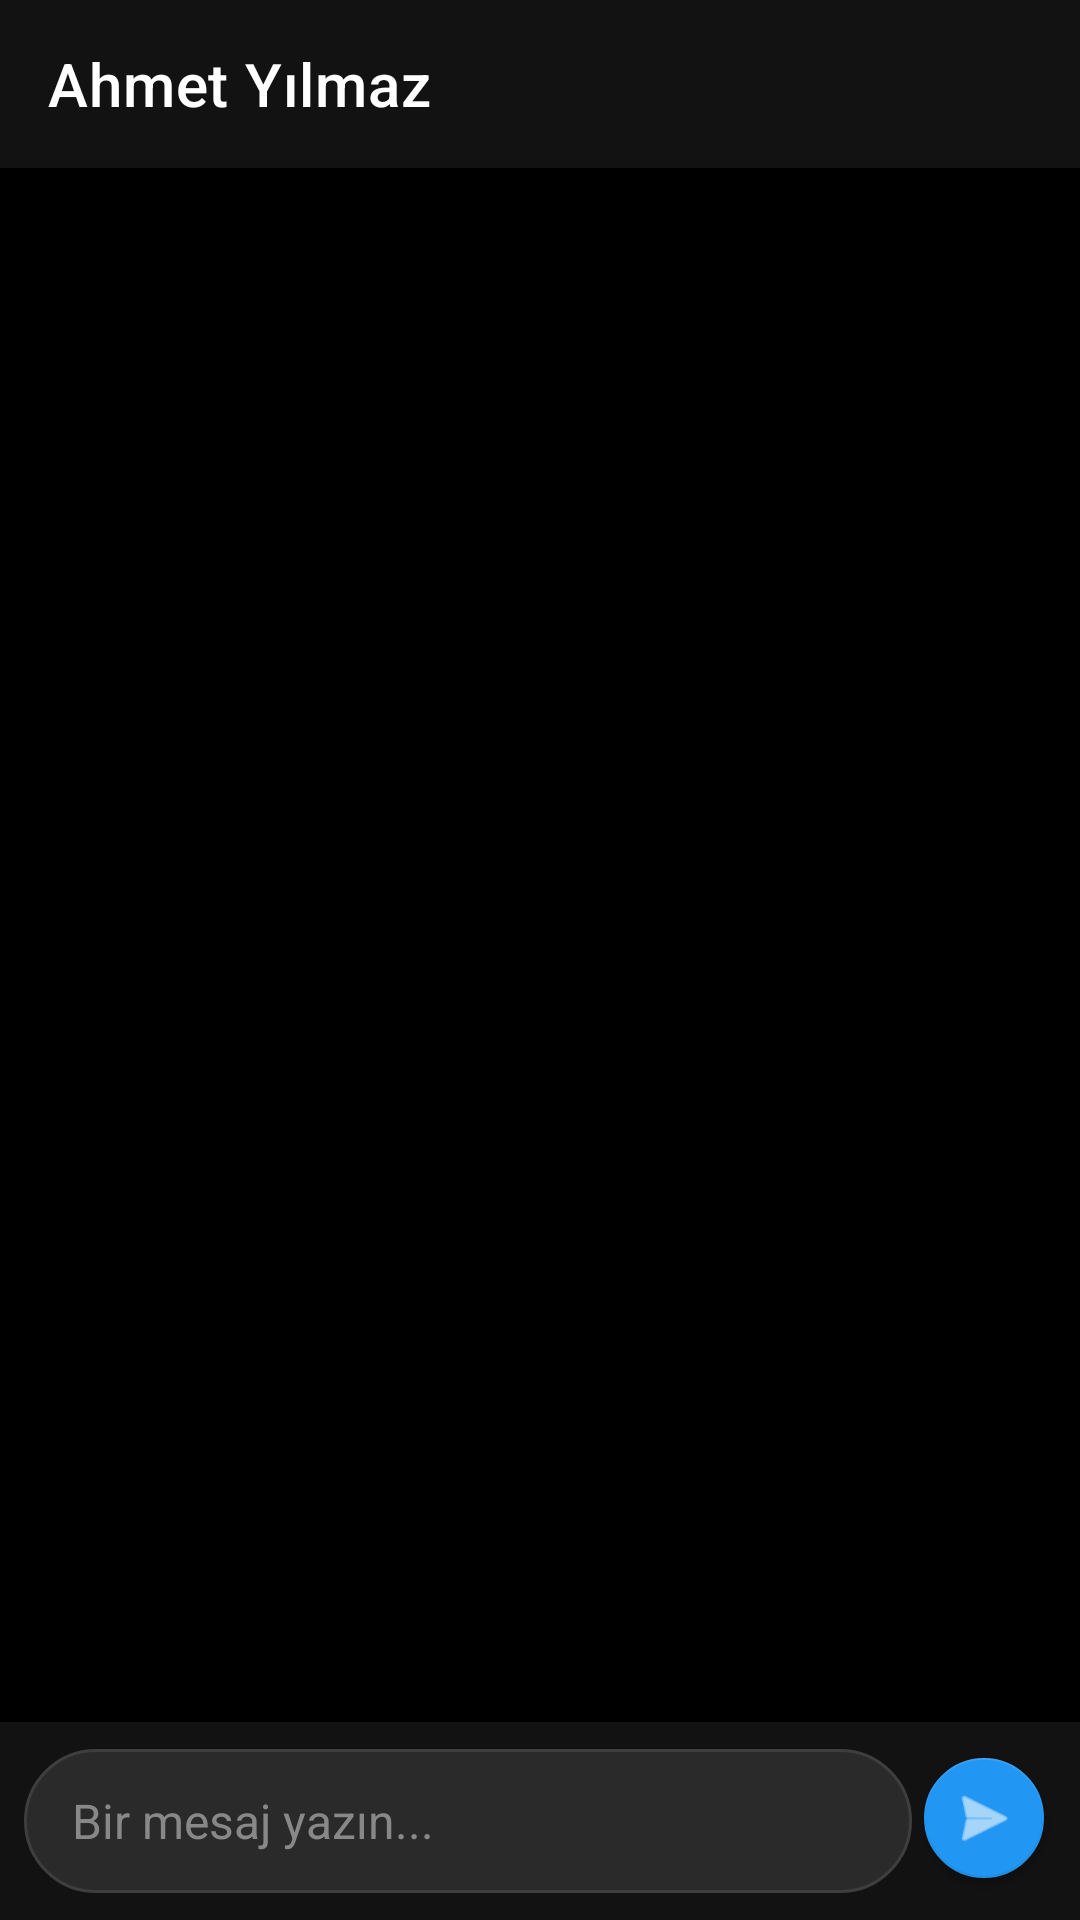

Icons on this 1080×1920 Android screen, each with the point to tap as point (x, y):
Gönder: point (984, 1818)
